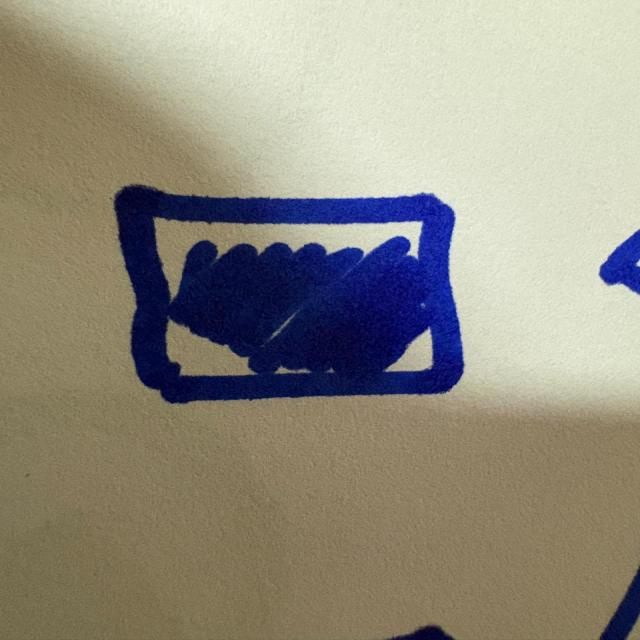Square: (109, 178, 475, 410)
